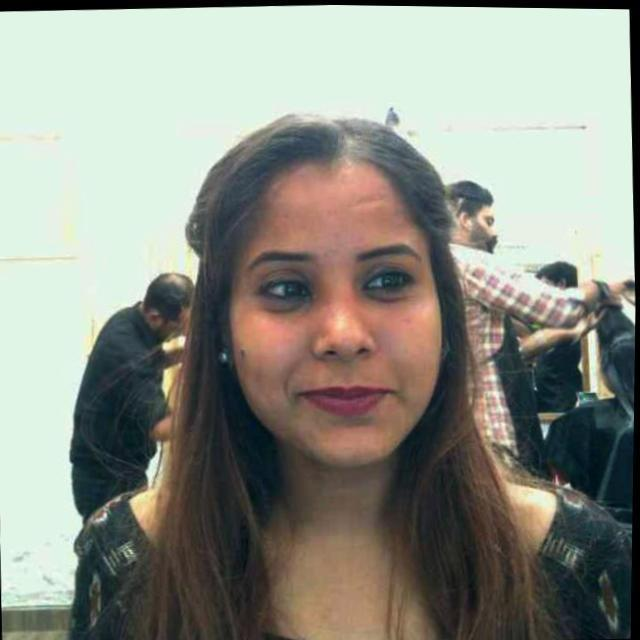puffy_eyes: (369, 286, 412, 302), (267, 298, 311, 313)
